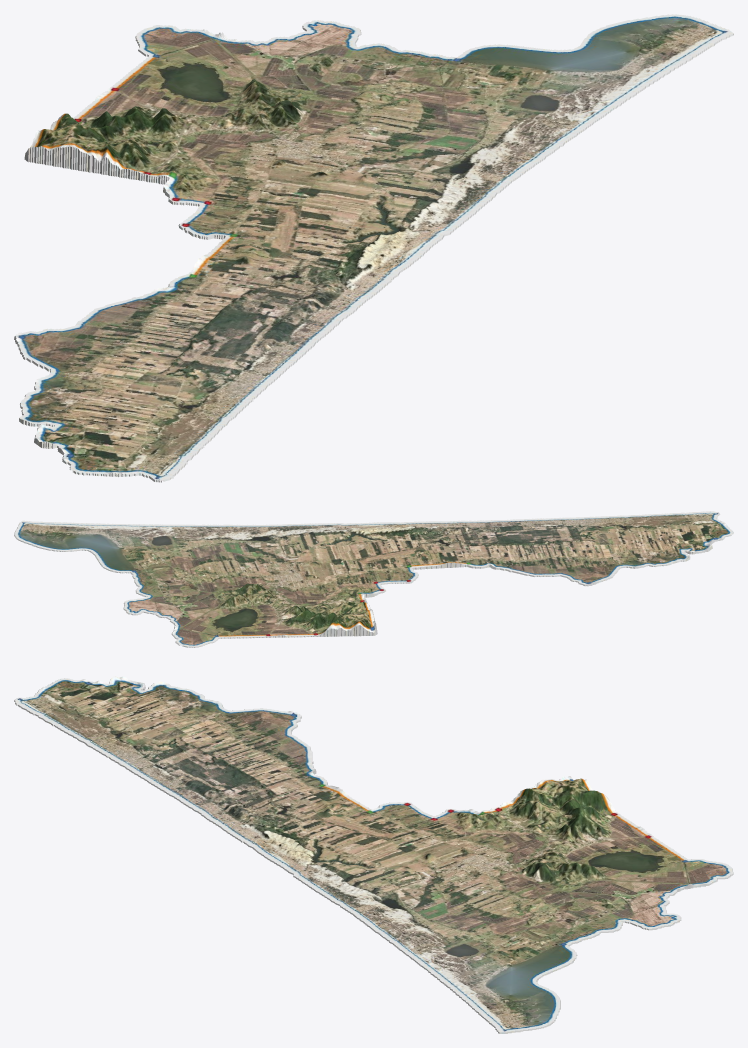
3 renders of one model, top to bottom at view 1: azimuth 30°, elevation 25°; view 2: azimuth 150°, elevation 25°; view 3: azimuth 270°, elevation 25°, orthographic. The views are drawn at different scales.
Bounding box in the file's own units: 0.9991 × 0.0234 × 0.858.
Materials: 1 (1 with a texture image).
